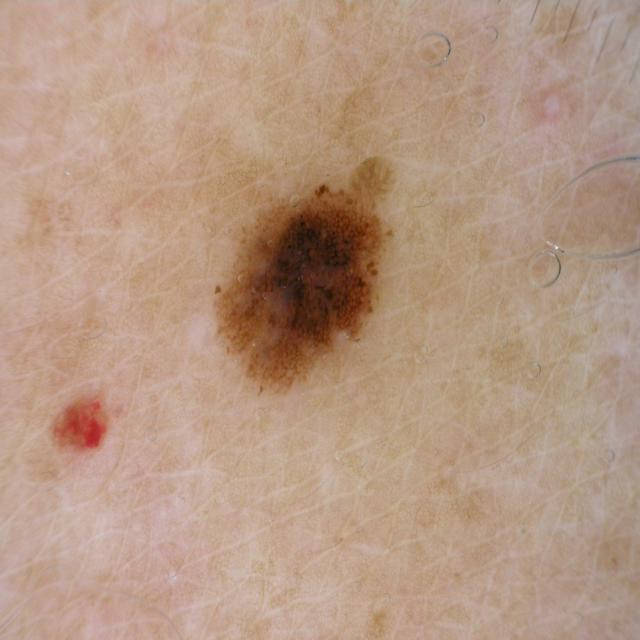Benign: (205, 158, 403, 402)
